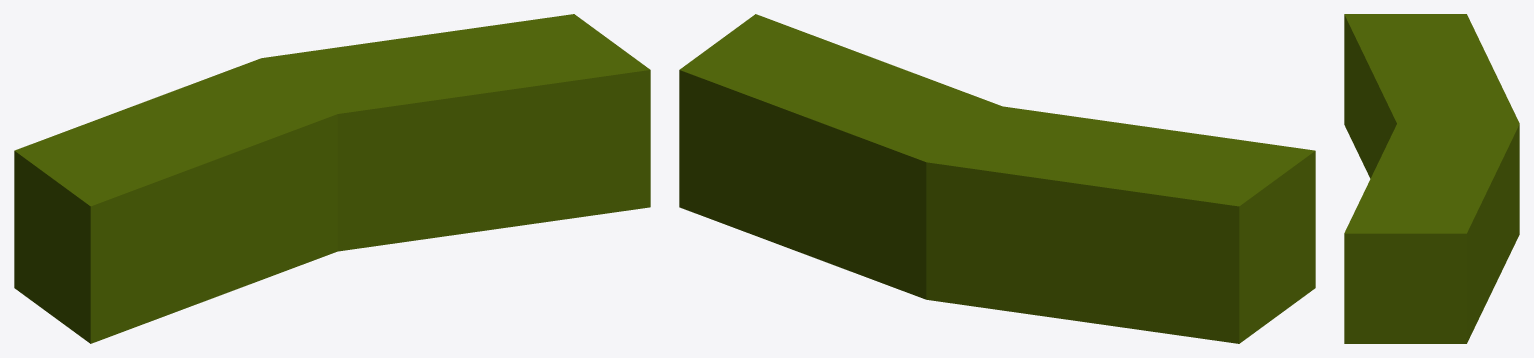
Rendered from tank_destroyed_2.glb.
3 renders of one model, left to right at view 1: azimuth 30°, elevation 25°; view 2: azimuth 150°, elevation 25°; view 3: azimuth 270°, elevation 25°, orthographic. The views are drawn at different scales.
Visible parts, largest first — view 1: tank_destroyed_2; view 2: tank_destroyed_2; view 3: tank_destroyed_2.
Boxes of the visible parts, <box> form: tank_destroyed_2: <box>14,14,650,343</box>; tank_destroyed_2: <box>679,14,1315,343</box>; tank_destroyed_2: <box>1344,14,1519,343</box>.
Size of the model in its own units: 0.42 by 0.0986 by 0.142.
1 material, 1 textured.
